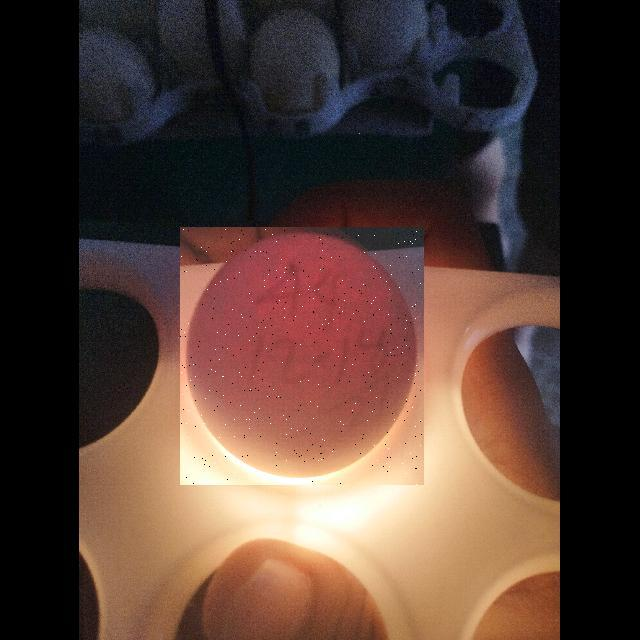Infertile: (180, 227, 424, 485)
